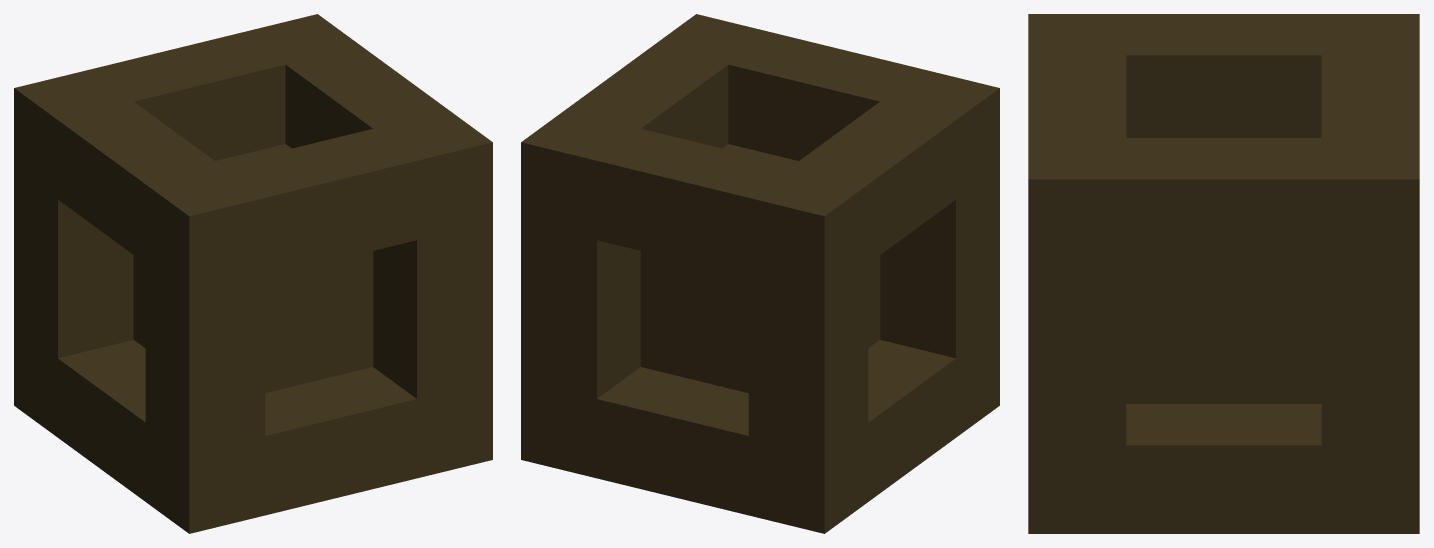
3 renders of one model, left to right at view 1: azimuth 30°, elevation 25°; view 2: azimuth 150°, elevation 25°; view 3: azimuth 270°, elevation 25°, orthographic. The views are drawn at different scales.
Parts seen in each view (by area): view 1: Cube; view 2: Cube; view 3: Cube.
Part boxes in pixels (x1=…): Cube: x1=14, y1=14, x2=492, y2=533; Cube: x1=521, y1=14, x2=999, y2=533; Cube: x1=1028, y1=14, x2=1419, y2=533.
Bounding box in the file's own units: 200 × 200 × 200.
